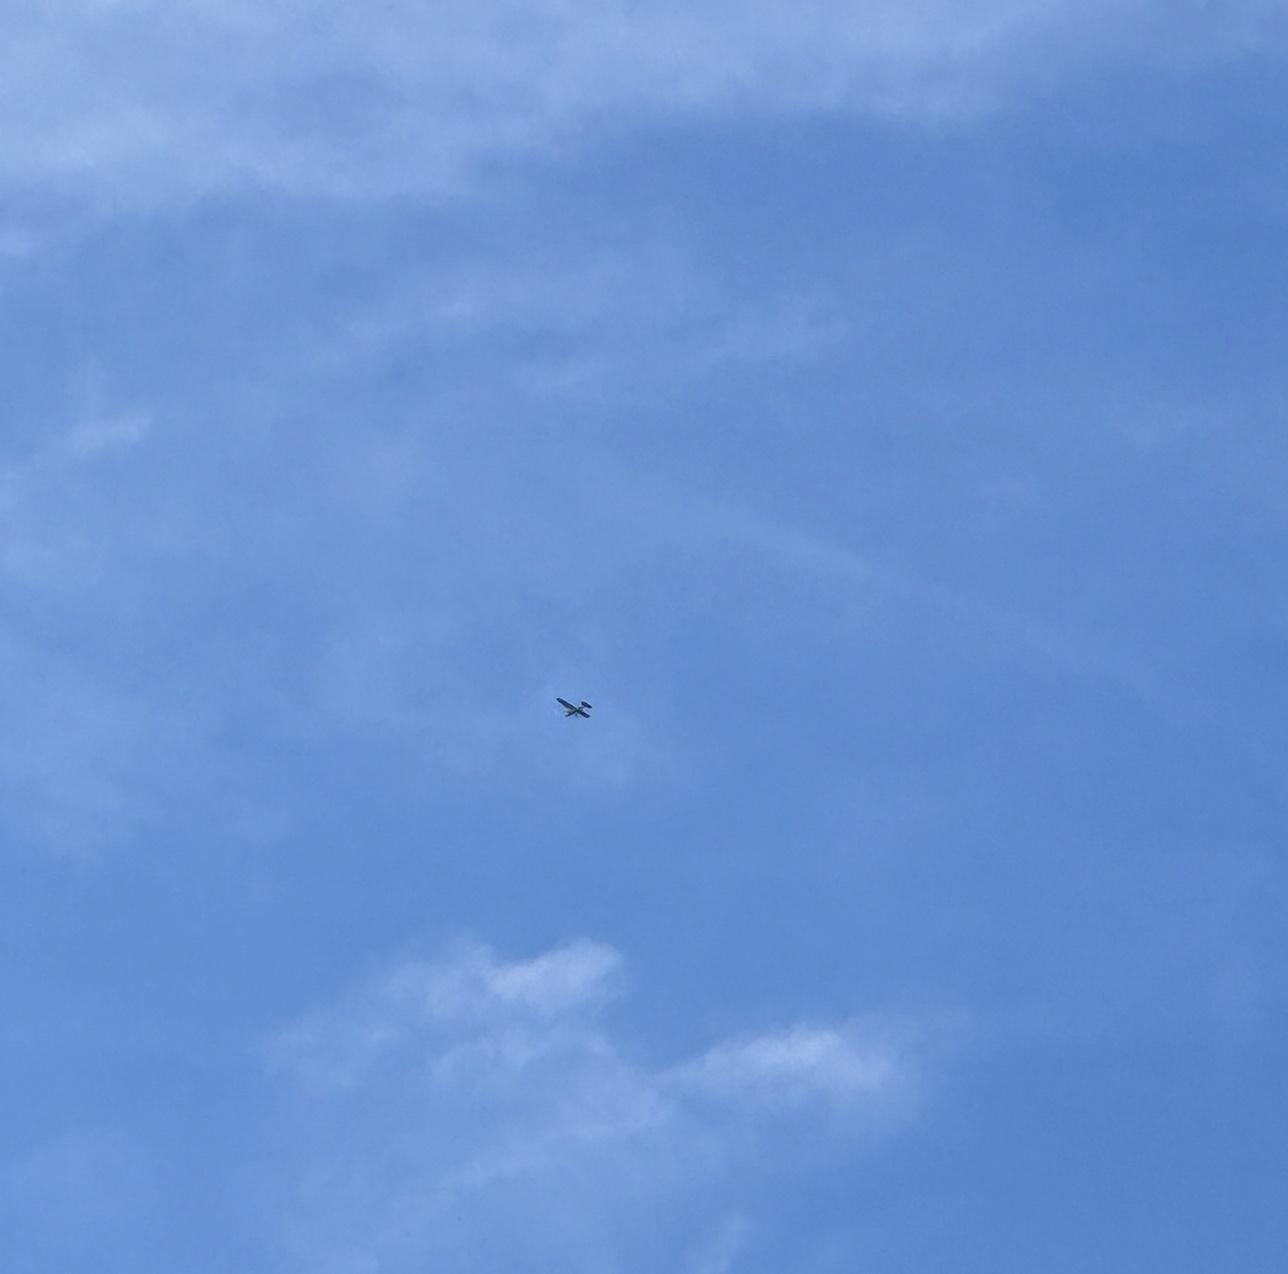Plane: (534, 674, 611, 737)
